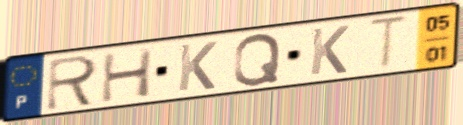H: (98, 46, 156, 105)
K: (307, 23, 352, 78), (175, 39, 220, 94)
Q: (231, 31, 284, 88)
R: (43, 53, 102, 113)
T: (365, 13, 413, 73)
